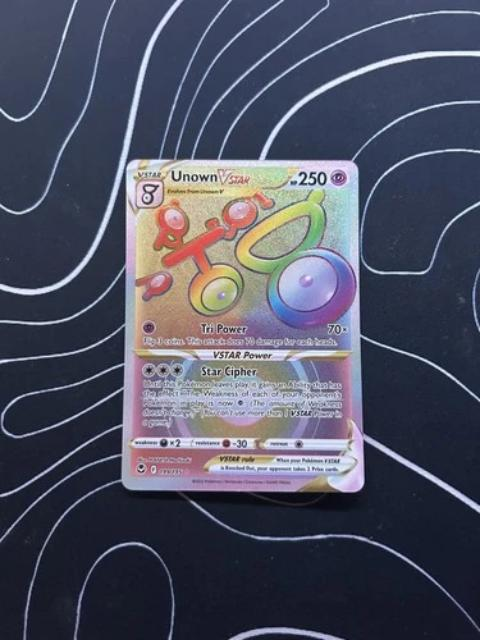Card: (117, 155, 372, 498)
Name: (165, 166, 258, 188)
